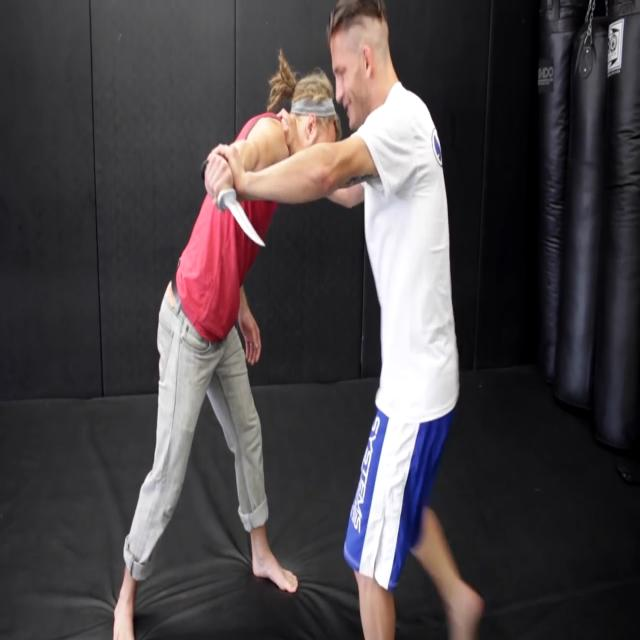knife: (219, 193, 271, 253)
